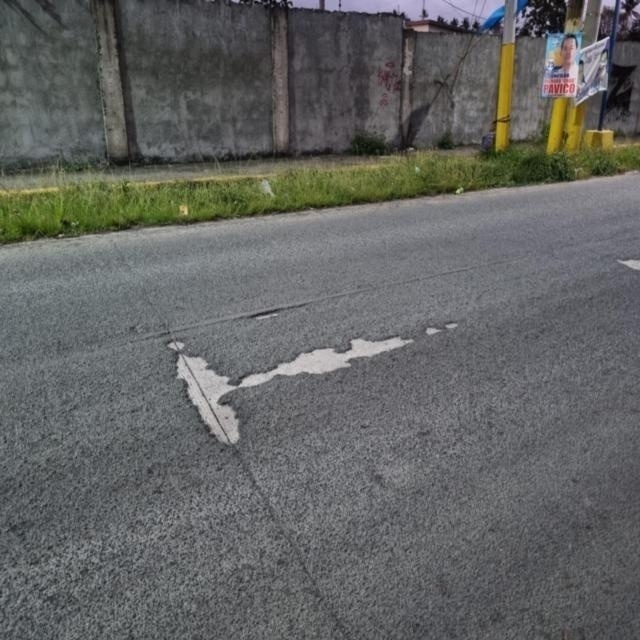pothole: (142, 284, 488, 458)
